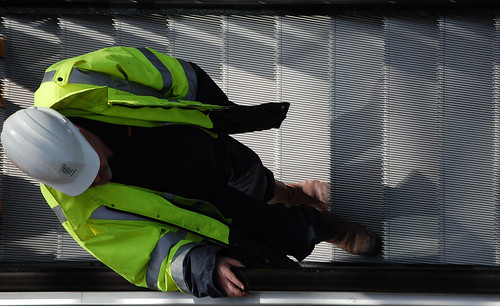person hardhat: (2, 44, 399, 289)
